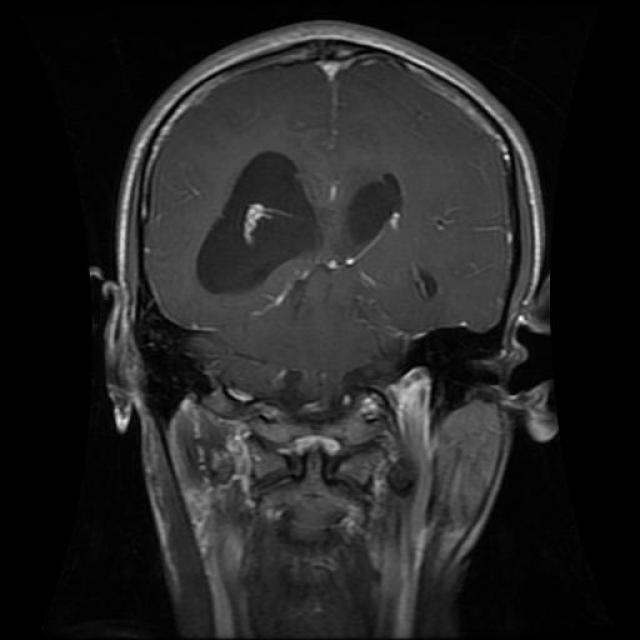glioma: (195, 150, 413, 298)
